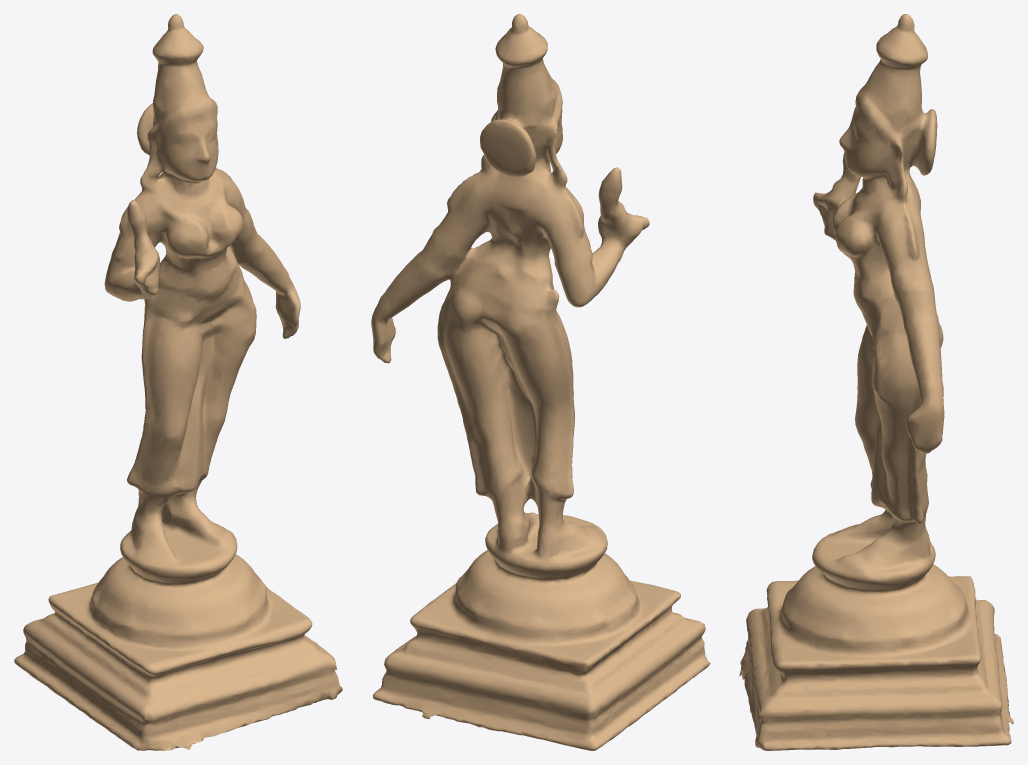
The model's file is Vainavam_Boomadevi_02.glb.
3 views of the same model, side by side, from view 1: azimuth 30°, elevation 25°; view 2: azimuth 150°, elevation 25°; view 3: azimuth 270°, elevation 25° (orthographic). The views are drawn at different scales.
Parts seen in each view (by area): view 1: Vainavam_Boomadevi_02; view 2: Vainavam_Boomadevi_02; view 3: Vainavam_Boomadevi_02.
Part boxes in pixels (x1,y1,x2,y2): Vainavam_Boomadevi_02: [14, 14, 342, 750]; Vainavam_Boomadevi_02: [371, 14, 710, 750]; Vainavam_Boomadevi_02: [739, 14, 1013, 750].
Size of the model in its own units: 1.08 by 2.74 by 0.9805.
